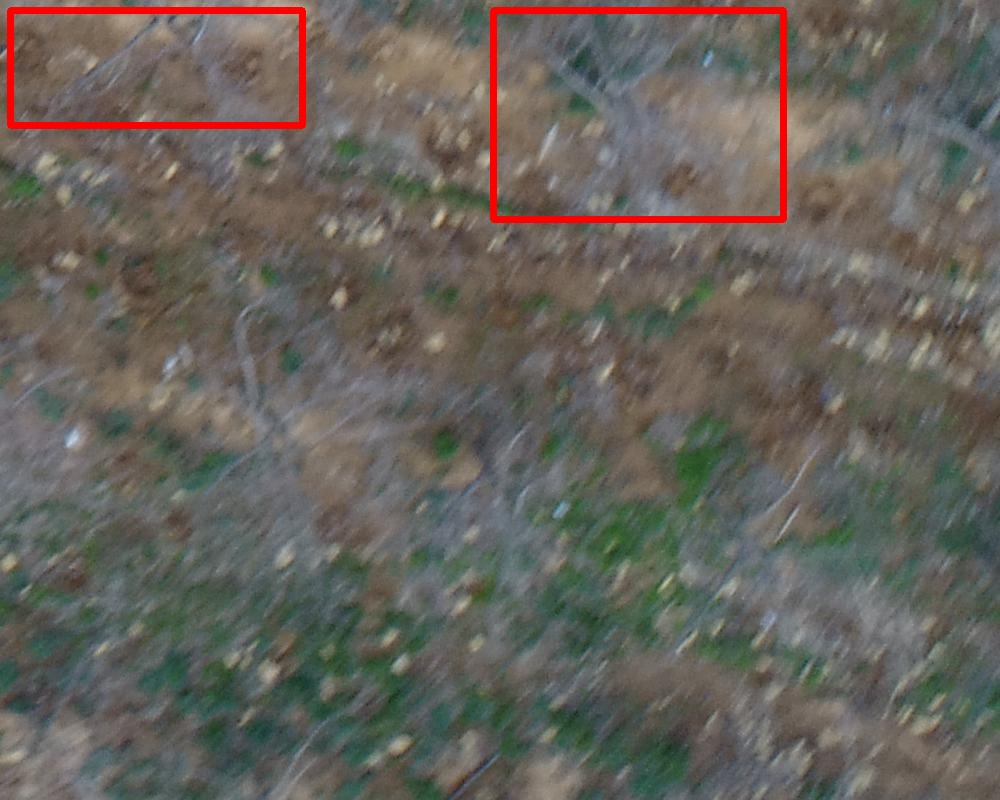apple: (493, 10, 783, 219), (10, 10, 302, 125)
